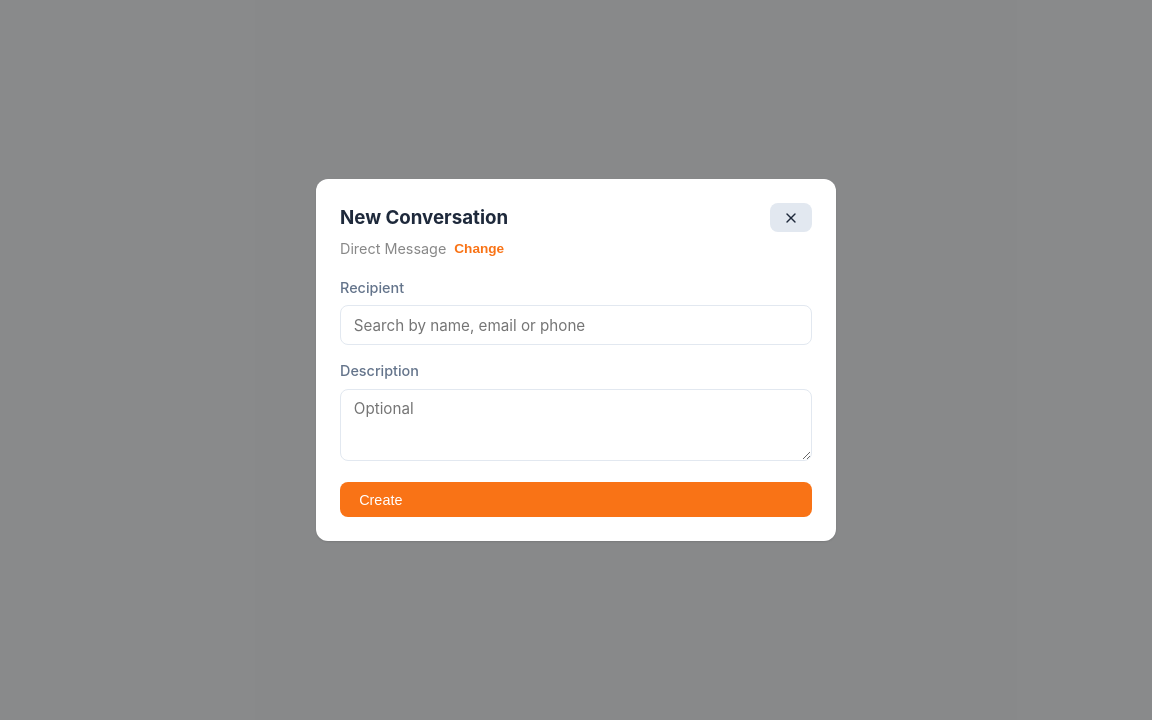
new conversation form › says a failed search failed, instead of "nobody found"
This screenshot has width=1152, height=720.
Type "Adeyemi" into the field with placeholder "Search by name, email or phone" at (576, 325), box x1=340 y1=305 x2=812 y2=345
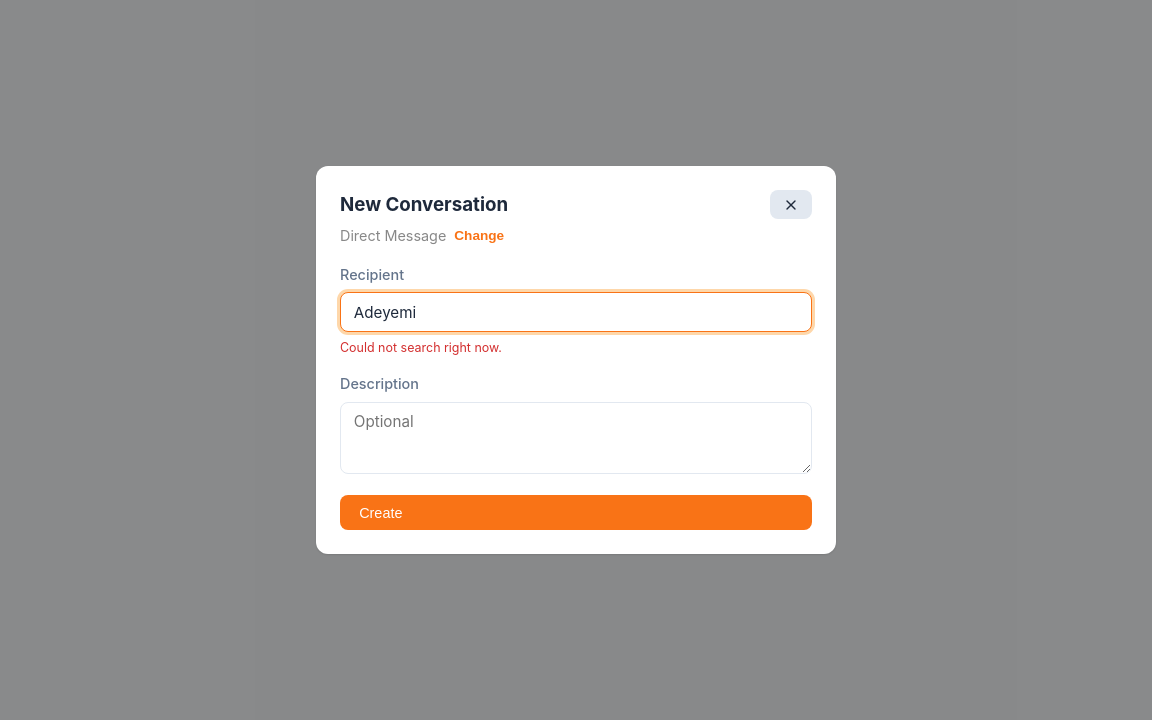
Check: the text "Could not search right now." is shown, box x1=340 y1=340 x2=502 y2=355
